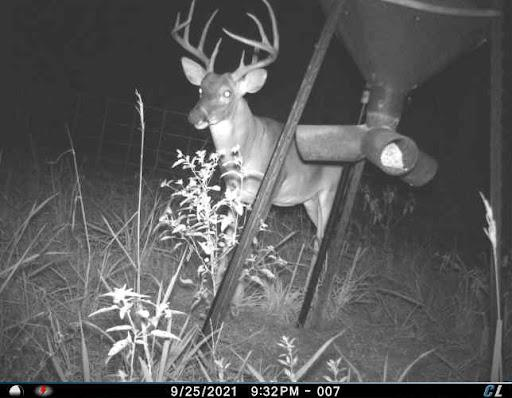Deer: (166, 0, 350, 288)
